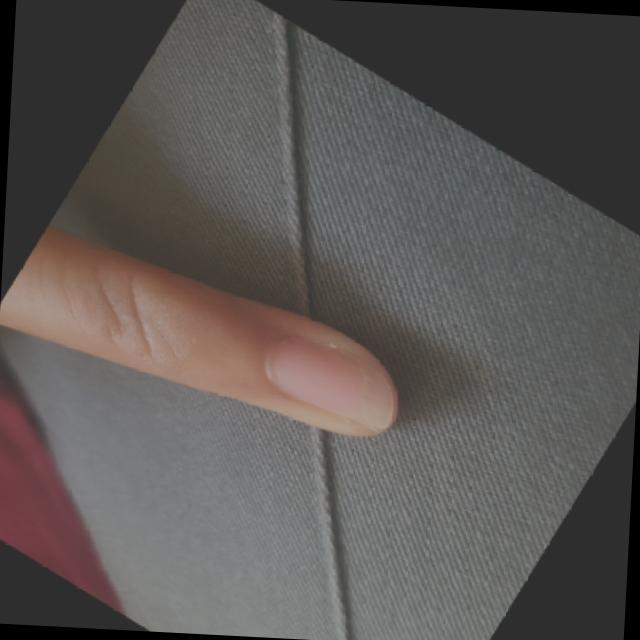Nail: (269, 337, 393, 430)
